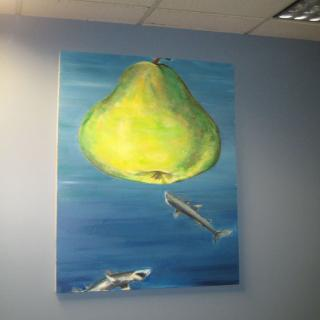Pear: (80, 61, 221, 182)
